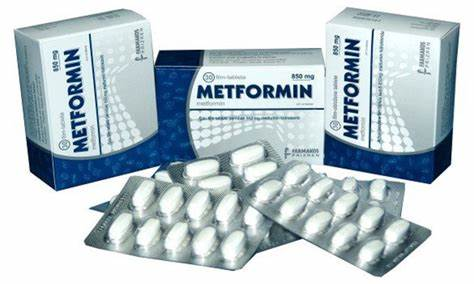Medicine: (324, 4, 467, 195), (8, 7, 161, 185), (154, 42, 329, 173)
